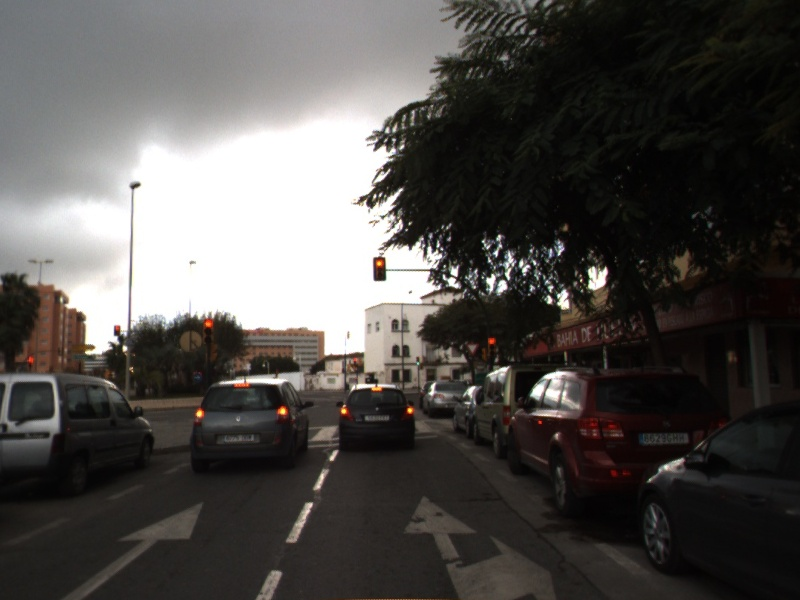STRAIGHT: (61, 500, 205, 600)
STRAIGHT_RIGHT: (401, 493, 557, 599)
